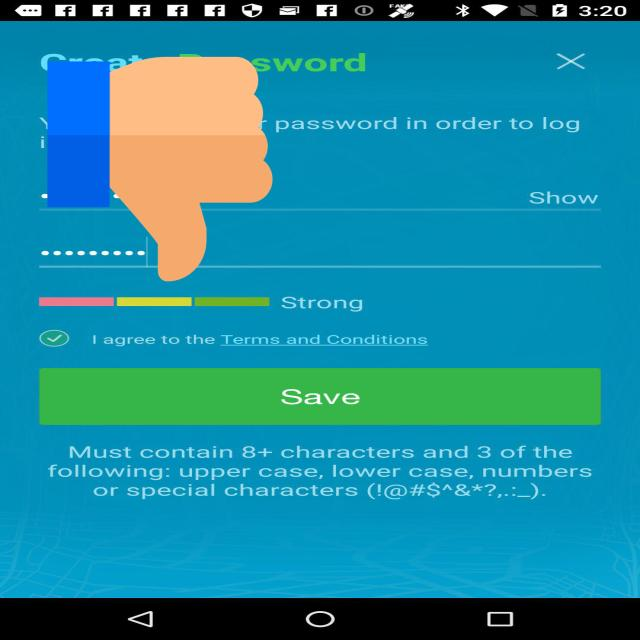obstruction: (48, 51, 272, 287)
